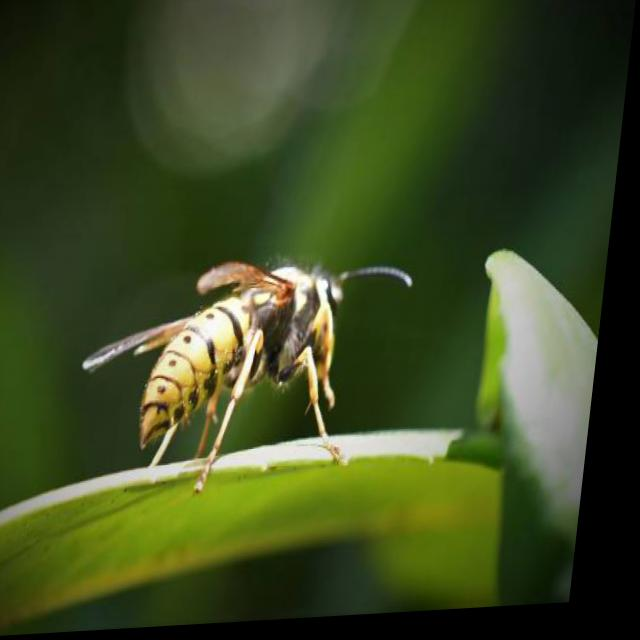Vespa Crabro: (71, 207, 436, 511)
